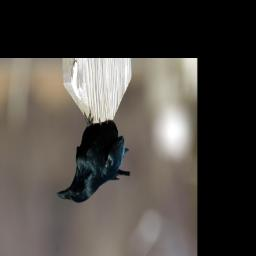Crow: (57, 112, 130, 203)
